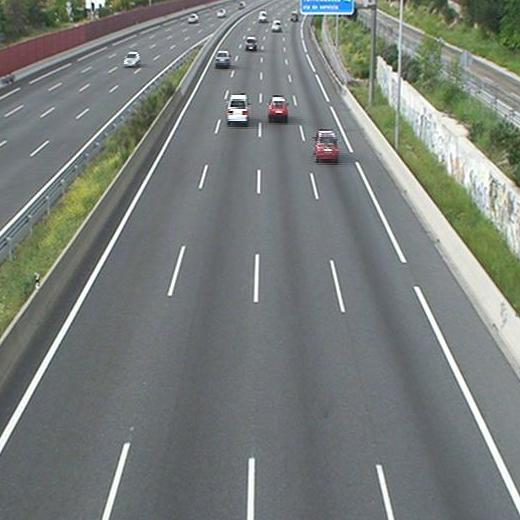car: (316, 131, 339, 159), (227, 95, 248, 122), (269, 97, 288, 119), (215, 50, 230, 66), (245, 37, 258, 51), (270, 20, 282, 32), (258, 11, 269, 22), (290, 13, 300, 22)
